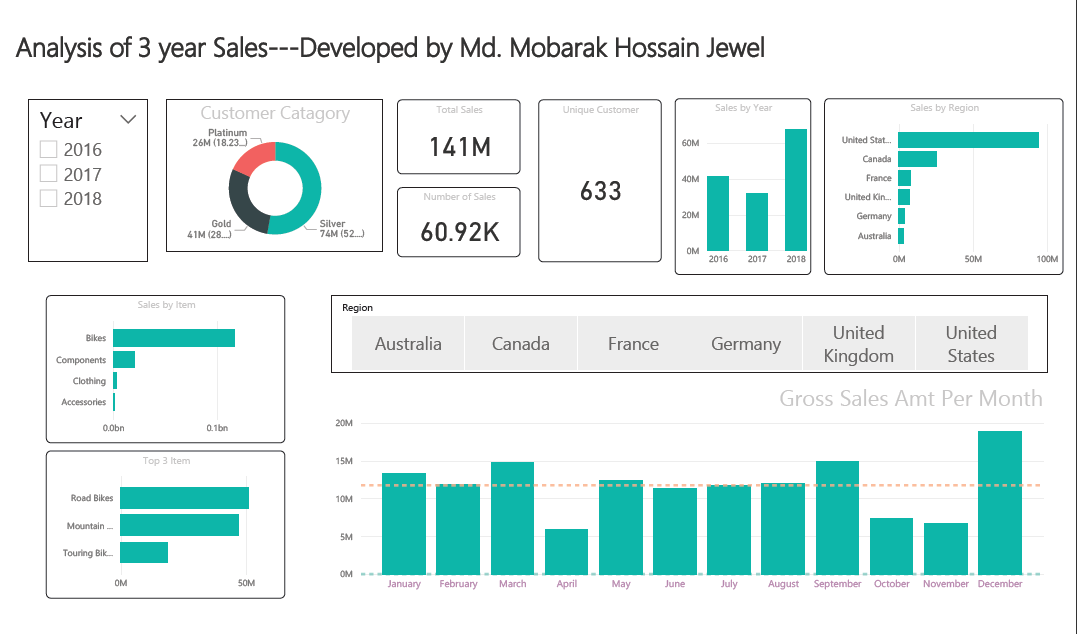

The dashboard page shown, as its layout file describes it:
{"tool":"powerbi","page":{"name":"Page 1","canvas":[1280,720],"ordinal":0},"visuals":[{"type":"textbox","box":[0,0,640.6,56.3],"z":0},{"type":"slicer","fields":{"Values":["Sheet1.SalesDate.Variation.Date Hierarchy.Year"]},"box":[20.2,92.3,145.7,197.7],"z":1000},{"type":"slicer","fields":{"Values":["Sheet1.Region"]},"box":[388.1,330.4,871.5,95.2],"z":2000},{"type":"donutChart","title":"Customer Catagory","fields":{"Y":["Sum(Sheet1.Gross Sales Amt)"],"Category":["Sheet1.Cust_Type"]},"box":[187.6,92.3,264,186.1],"z":3000},{"type":"card","title":"Total Sales","fields":{"Values":["Sum(Sheet1.Gross Sales Amt)"]},"box":[468.9,92.3,150.1,90.9],"z":4000},{"type":"card","title":"Number of Sales","fields":{"Values":["CountNonNull(Sheet1.Gross Sales Amt)"]},"box":[468.9,199.1,150.1,85.1],"z":5000},{"type":"card","title":"Unique Customer","fields":{"Values":["Count(Sheet1.Customer)"]},"box":[640.6,92.3,150.1,197.7],"z":6000},{"type":"clusteredColumnChart","title":"Gross Sales Amt Per Month","fields":{"Category":["Sheet1.SalesDate.Variation.Date Hierarchy.Month"],"Y":["Sum(Sheet1.Gross Sales Amt)"]},"box":[388.1,435.8,871.5,264],"z":6001},{"type":"clusteredBarChart","title":"Sales by Region","fields":{"Y":["Sum(Sheet1.Gross Sales Amt)"],"Category":["Sheet1.Region"]},"box":[988.4,90.9,291.5,215],"z":6002},{"type":"clusteredBarChart","title":"Sales by Item","fields":{"Y":["Sum(Sheet1.Gross Sales Amt)"],"Category":["Sheet1.Buz_Segt"]},"box":[41.8,330.4,291.5,180.4],"z":6003},{"type":"clusteredBarChart","title":"Top 3 Item","fields":{"Y":["Sum(Sheet1.Gross Sales Amt)"],"Category":["Sheet1.Category"]},"box":[41.8,519.4,291.5,180.4],"z":6004},{"type":"clusteredColumnChart","title":"Sales by Year","fields":{"Y":["Sum(Sheet1.Gross Sales Amt)"],"Category":["Sheet1.SalesDate.Variation.Date Hierarchy.Year"]},"box":[806.6,90.9,165.9,215],"z":6005}]}

Visuals, with their boxes in screenshot pixels (x1, y1, x2, y2):
textbox: (x1=6, y1=17, x2=537, y2=64)
slicer - Sheet1.SalesDate.Variation.Date Hierarchy.Year: (x1=22, y1=93, x2=143, y2=257)
slicer - Sheet1.Region: (x1=328, y1=291, x2=1051, y2=370)
"Customer Catagory" donutChart: (x1=161, y1=93, x2=380, y2=248)
"Total Sales" card: (x1=395, y1=93, x2=519, y2=169)
"Number of Sales" card: (x1=395, y1=182, x2=519, y2=253)
"Unique Customer" card: (x1=537, y1=93, x2=662, y2=257)
"Gross Sales Amt Per Month" clusteredColumnChart: (x1=328, y1=378, x2=1051, y2=598)
"Sales by Region" clusteredBarChart: (x1=826, y1=92, x2=1068, y2=271)
"Sales by Item" clusteredBarChart: (x1=40, y1=291, x2=282, y2=441)
"Top 3 Item" clusteredBarChart: (x1=40, y1=448, x2=282, y2=598)
"Sales by Year" clusteredColumnChart: (x1=675, y1=92, x2=813, y2=271)
